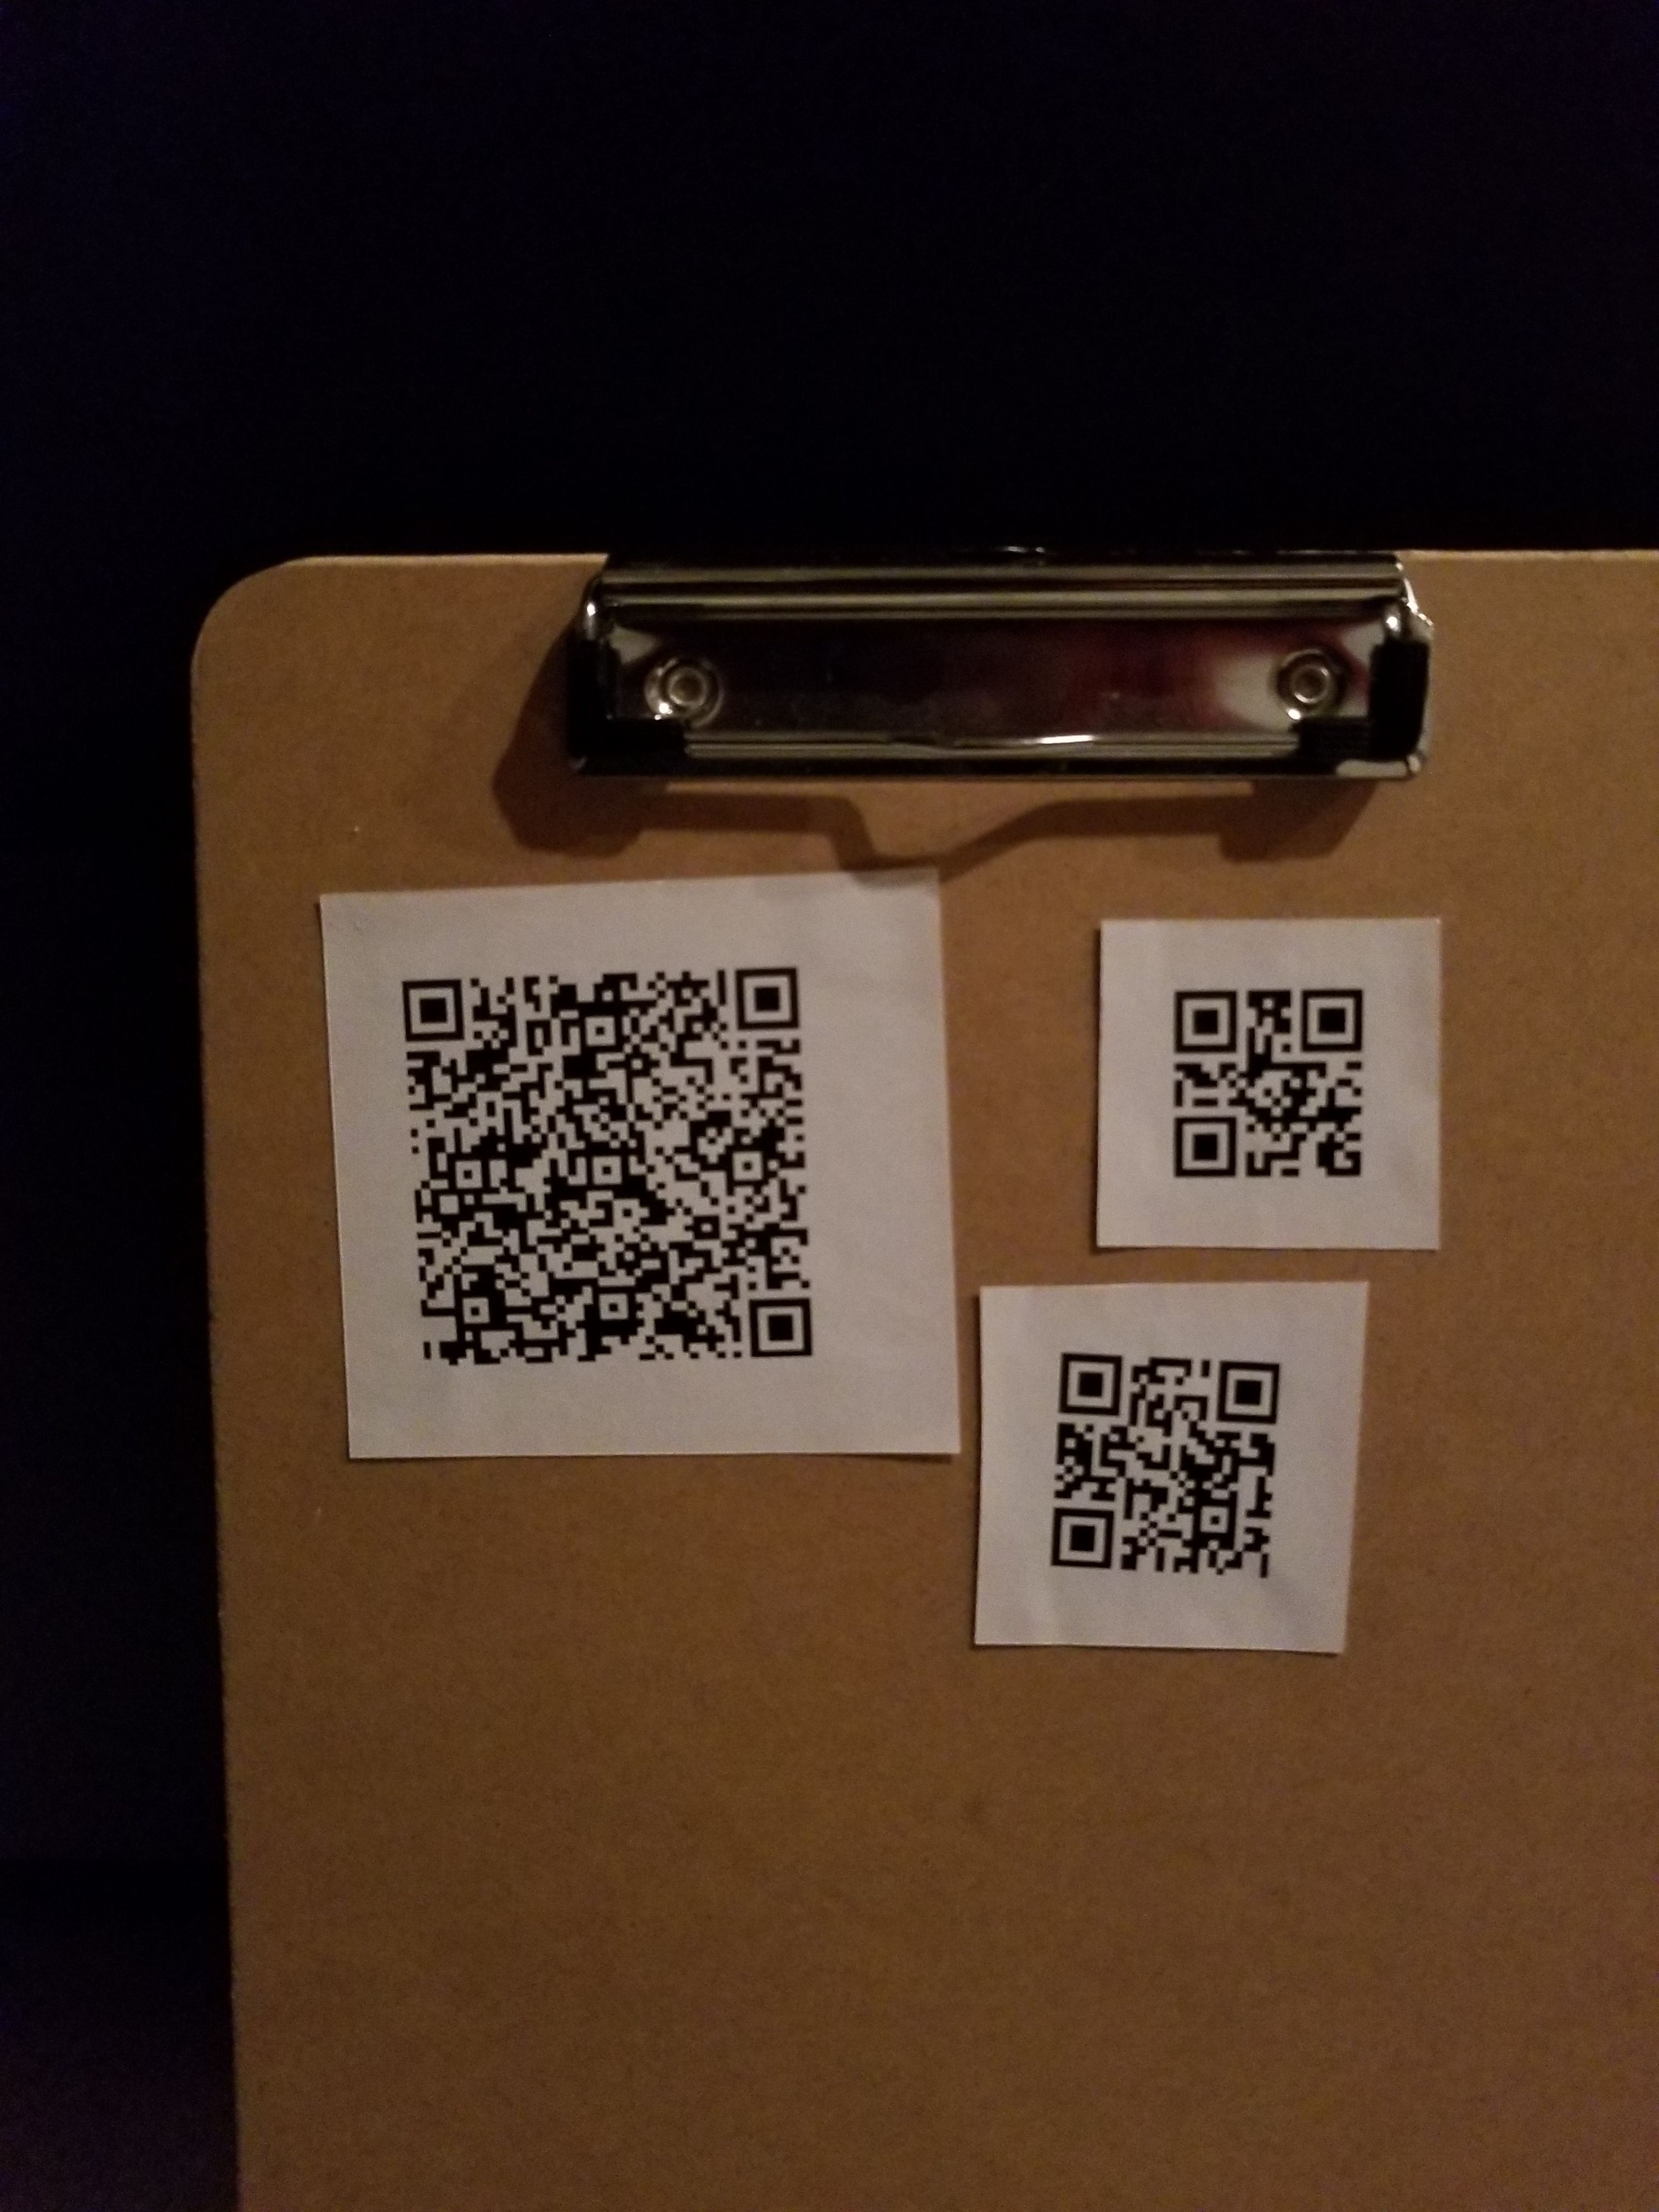QR_CODE: (369, 911, 850, 1395), (1009, 1320, 1305, 1611), (1127, 953, 1387, 1217)
